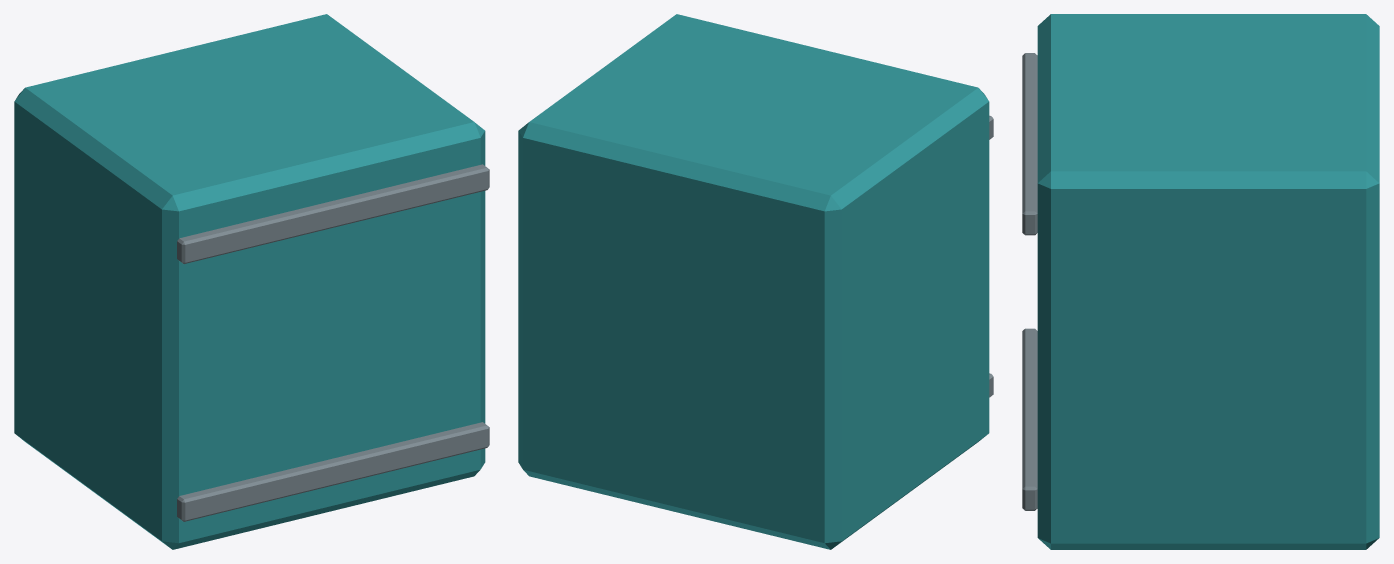
File: street_033_seed11.glb
3 views of the same model, side by side, from view 1: azimuth 30°, elevation 25°; view 2: azimuth 150°, elevation 25°; view 3: azimuth 270°, elevation 25° (orthographic). The views are drawn at different scales.
Parts seen in each view (by area): view 1: street_033_seed11; view 2: street_033_seed11; view 3: street_033_seed11.
Boxes of the visible parts, x1=… form: street_033_seed11: x1=14, y1=14, x2=489, y2=549; street_033_seed11: x1=518, y1=14, x2=993, y2=549; street_033_seed11: x1=1022, y1=14, x2=1379, y2=549.
Size of the model in its own units: 1.05 by 1.1 by 0.94.
